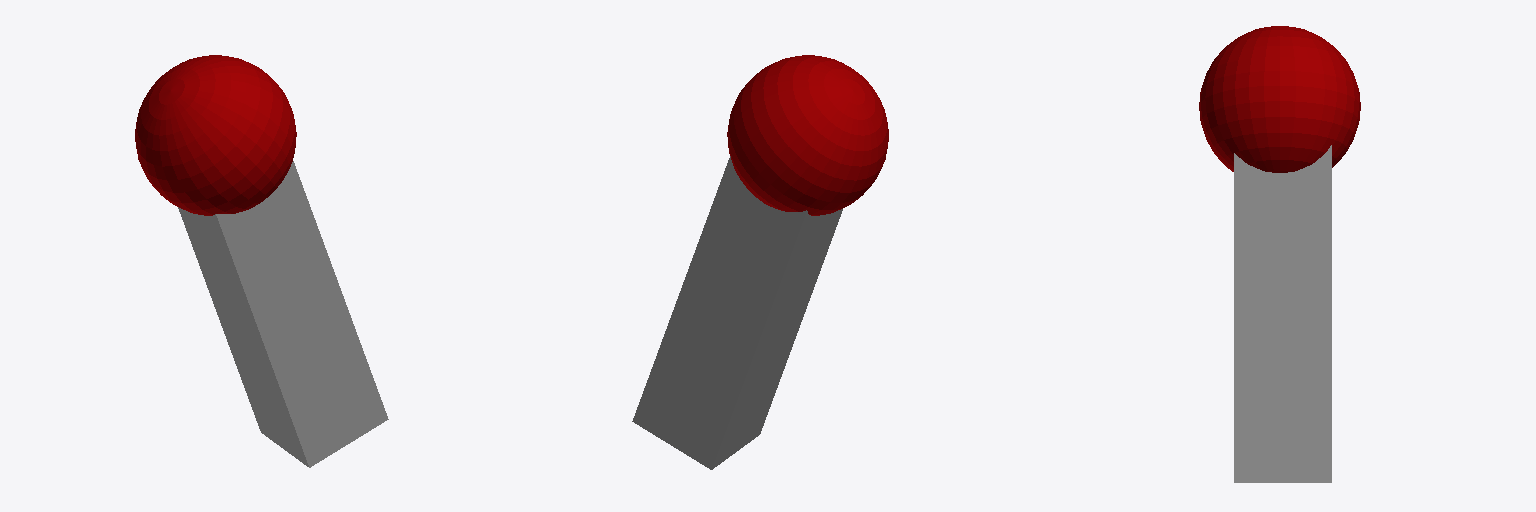
The model's file is julia-left-arm.obj.
The picture shows the model from 3 angles: view 1: azimuth 30°, elevation 25°; view 2: azimuth 150°, elevation 25°; view 3: azimuth 270°, elevation 25°; orthographic projection.
Visible parts, largest first — view 1: Cube.005_Cube.007, Sphere.001; view 2: Cube.005_Cube.007, Sphere.001; view 3: Cube.005_Cube.007, Sphere.001.
Boxes of the visible parts, box(x1,y1,x2,y2) form: Cube.005_Cube.007: box(178, 161, 388, 467); Sphere.001: box(135, 55, 296, 215); Cube.005_Cube.007: box(632, 156, 842, 469); Sphere.001: box(727, 55, 888, 215); Cube.005_Cube.007: box(1234, 145, 1331, 482); Sphere.001: box(1199, 26, 1360, 172).
Bounding box in the file's own units: 1.94 × 3.41 × 1.23.